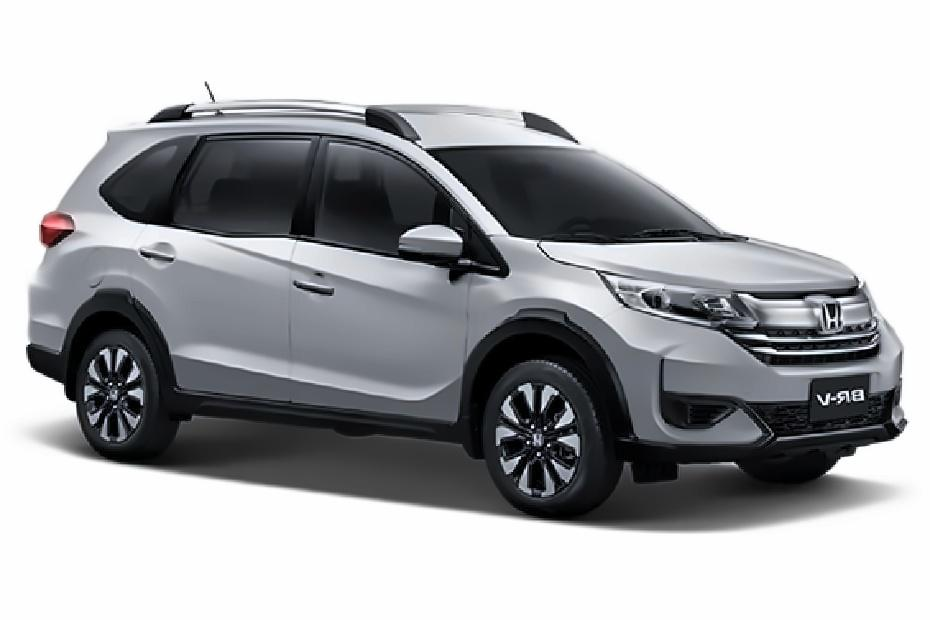Car hood: (530, 230, 863, 289)
Driver-s door - -F-R-: (288, 114, 467, 421)
Fender - -F-R-: (458, 220, 625, 441)
Fender - -R-R-: (40, 202, 147, 307)
Front bumper: (606, 332, 920, 487)
Headlight - -L-: (850, 268, 894, 318)
Headlight - -R-: (596, 264, 769, 332)
Passenger-s door - -R-R-: (138, 118, 290, 407)
Rear bumper: (20, 270, 83, 407)
Rear light - -R-: (30, 198, 89, 254)
Side bumper - -R-: (164, 376, 474, 463)
Side mirror - -R-: (390, 208, 487, 281)
